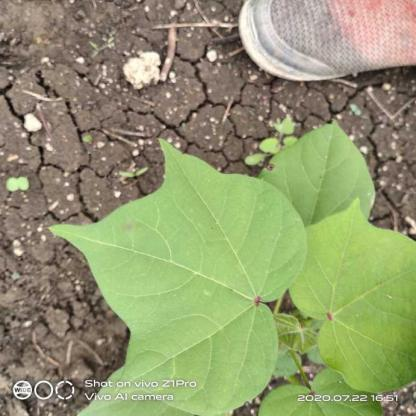cotton: (50, 134, 416, 394)
